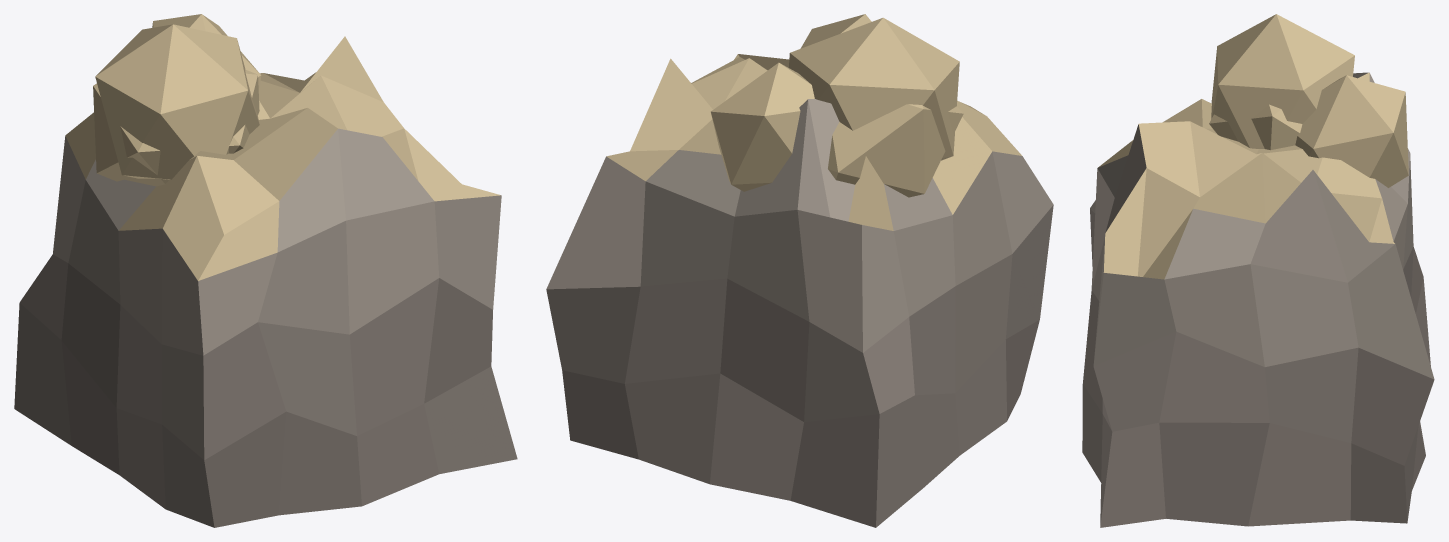
The model's file is rock_1.glb.
The picture shows the model from 3 angles, left to right: view 1: azimuth 30°, elevation 25°; view 2: azimuth 150°, elevation 25°; view 3: azimuth 270°, elevation 25°; orthographic projection. The views are drawn at different scales.
Visible parts, largest first — view 1: rock_1; view 2: rock_1; view 3: rock_1.
Boxes of the visible parts, x1=… form: rock_1: x1=14, y1=14, x2=517, y2=527; rock_1: x1=546, y1=14, x2=1053, y2=527; rock_1: x1=1082, y1=14, x2=1434, y2=527.
Size of the model in its own units: 0.9958 by 1.25 by 0.9949.
